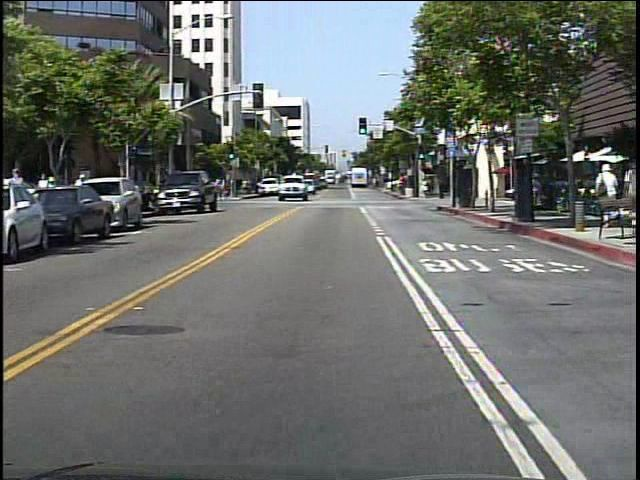person: (593, 158, 624, 226), (217, 175, 229, 203), (420, 177, 430, 200)
